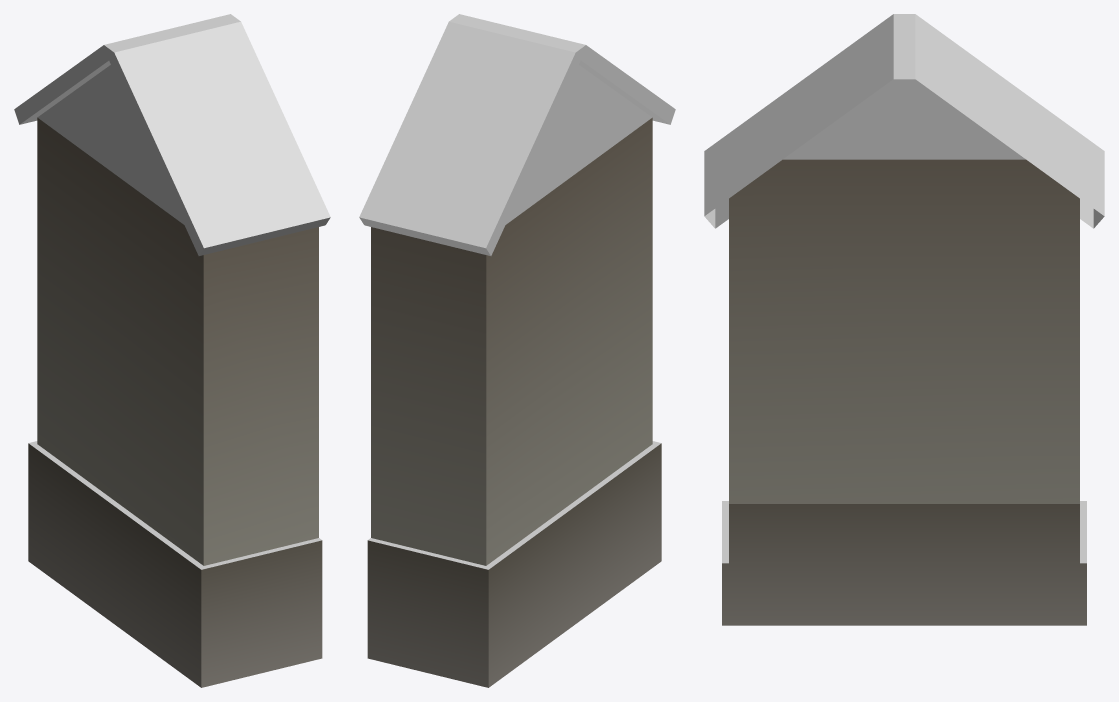
Rendered from Buffer_3.fbx.
3 views of the same model, side by side, from view 1: azimuth 30°, elevation 25°; view 2: azimuth 150°, elevation 25°; view 3: azimuth 270°, elevation 25° (orthographic). The views are drawn at different scales.
Visible parts, largest first — view 1: Buffer-2Story_A-End.003, Buffer-2Story_A-End.001, Buffer-2Story_A-End.006, Buffer-2Story_A-End.008, Buffer-2Story_A-End.005, Buffer-2Story_A-End.004, Buffer-2Story_A-End.002, Buffer-2Story_A-End.007, Buffer-2Story_A-End.009; view 2: Buffer-2Story_A-End.003, Buffer-2Story_A-End.001, Buffer-2Story_A-End.006, Buffer-2Story_A-End.008, Buffer-2Story_A-End.005, Buffer-2Story_A-End.004, Buffer-2Story_A-End.002, Buffer-2Story_A-End.007, Buffer-2Story_A-End.009; view 3: Buffer-2Story_A-End.003, Buffer-2Story_A-End.001, Buffer-2Story_A-End.006, Buffer-2Story_A-End.008, Buffer-2Story_A-End.005, Buffer-2Story_A-End.007, Buffer-2Story_A-End.002.
Part boxes in pixels (bbox=[...]): Buffer-2Story_A-End.003: bbox=[37, 117, 318, 565]; Buffer-2Story_A-End.001: bbox=[28, 443, 322, 687]; Buffer-2Story_A-End.006: bbox=[126, 21, 323, 231]; Buffer-2Story_A-End.008: bbox=[37, 65, 184, 224]; Buffer-2Story_A-End.005: bbox=[104, 42, 330, 248]; Buffer-2Story_A-End.004: bbox=[14, 45, 330, 255]; Buffer-2Story_A-End.002: bbox=[28, 441, 321, 569]; Buffer-2Story_A-End.007: bbox=[115, 14, 240, 49]; Buffer-2Story_A-End.009: bbox=[20, 61, 110, 124]; Buffer-2Story_A-End.003: bbox=[371, 117, 652, 565]; Buffer-2Story_A-End.001: bbox=[367, 443, 661, 687]; Buffer-2Story_A-End.006: bbox=[366, 21, 563, 231]; Buffer-2Story_A-End.008: bbox=[505, 65, 652, 224]; Buffer-2Story_A-End.005: bbox=[359, 42, 585, 248]; Buffer-2Story_A-End.004: bbox=[359, 45, 675, 255]; Buffer-2Story_A-End.002: bbox=[368, 441, 661, 569]; Buffer-2Story_A-End.007: bbox=[449, 14, 574, 49]; Buffer-2Story_A-End.009: bbox=[579, 61, 669, 124]; Buffer-2Story_A-End.003: bbox=[729, 159, 1079, 503]; Buffer-2Story_A-End.001: bbox=[722, 504, 1086, 625]; Buffer-2Story_A-End.006: bbox=[718, 20, 1090, 206]; Buffer-2Story_A-End.008: bbox=[783, 79, 1025, 159]; Buffer-2Story_A-End.005: bbox=[704, 14, 1104, 215]; Buffer-2Story_A-End.007: bbox=[893, 20, 915, 79]; Buffer-2Story_A-End.002: bbox=[722, 501, 1086, 563].
Size of the model in its own units: 220 by 957 by 570.
